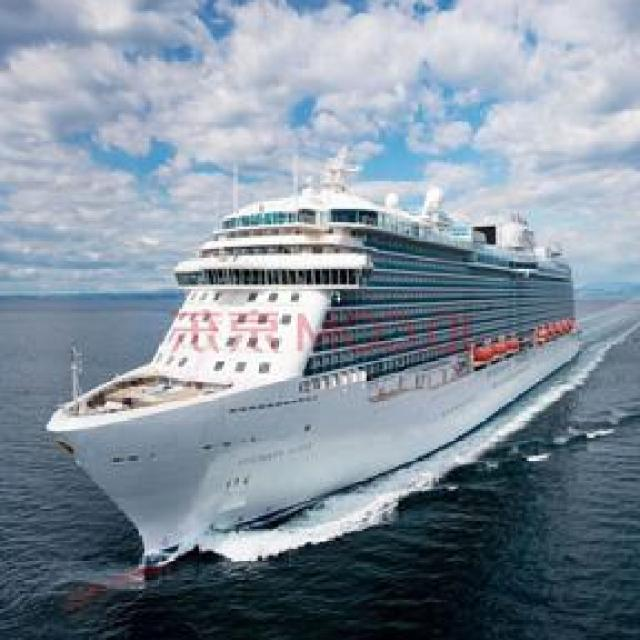passenger ship: (56, 152, 594, 565)
